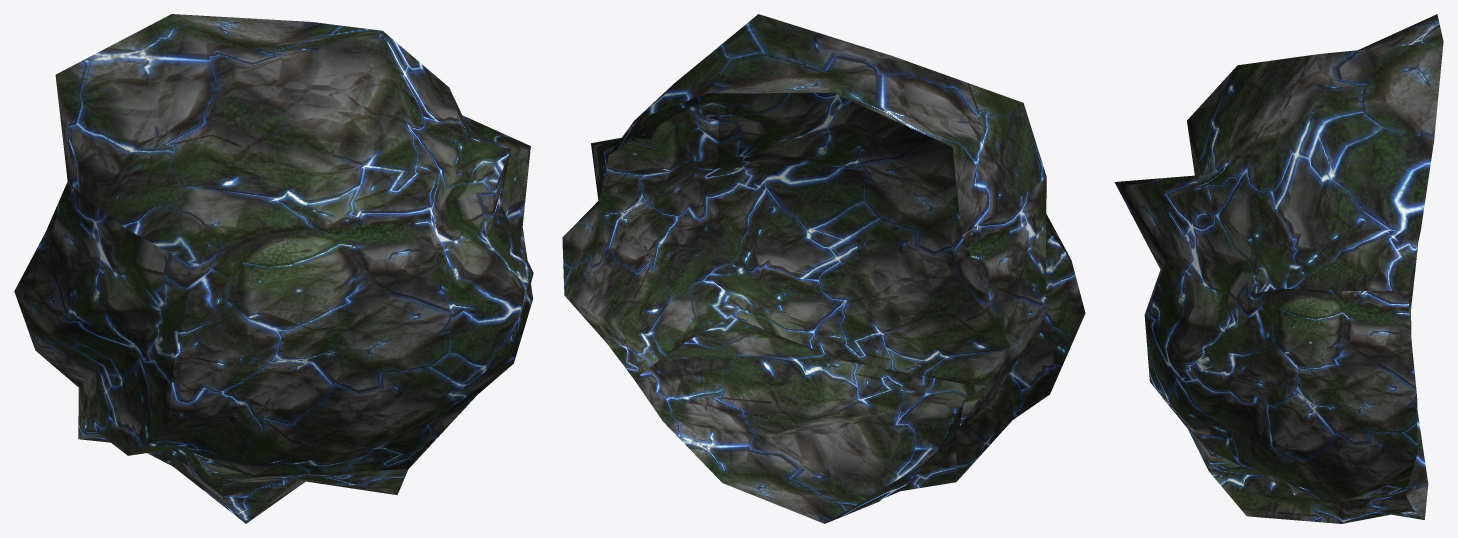
File: oulder_2_moss.FBX
3 renders of one model, left to right at view 1: azimuth 30°, elevation 25°; view 2: azimuth 150°, elevation 25°; view 3: azimuth 270°, elevation 25°, orthographic. The views are drawn at different scales.
Parts seen in each view (by area): view 1: Box001; view 2: Box001; view 3: Box001.
Boxes of the visible parts, box(x1,y1,x2,y2) form: Box001: box(14, 14, 533, 523); Box001: box(562, 14, 1085, 523); Box001: box(1114, 14, 1443, 523).
Size of the model in its own units: 155 by 97.75 by 147.
